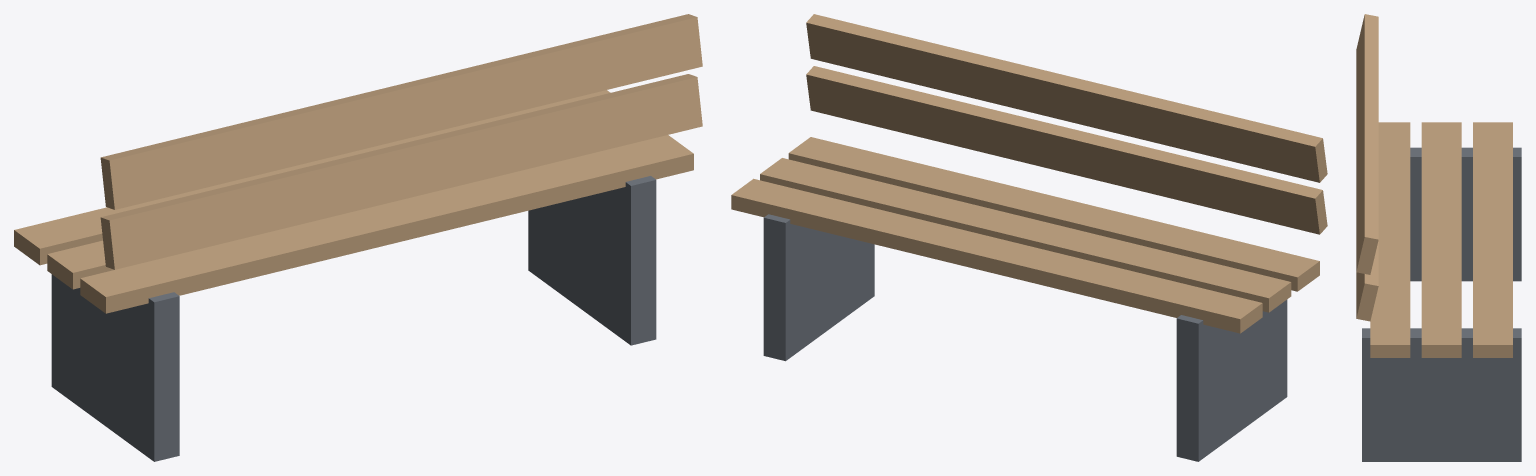
The model's file is Prop_Bench.fbx.
3 renders of one model, left to right at view 1: azimuth 30°, elevation 25°; view 2: azimuth 150°, elevation 25°; view 3: azimuth 270°, elevation 25°, orthographic. The views are drawn at different scales.
Parts seen in each view (by area): view 1: Cube.006, Cube.005, Cube.002, Cube, Cube.001, Cube.004, Cube.003; view 2: Cube.005, Cube.006, Cube.004, Cube.003, Cube.002, Cube, Cube.001; view 3: Cube.001, Cube.003, Cube.004, Cube.002, Cube.006, Cube, Cube.005.
Boxes of the visible parts, x1,y1,x2,y2 form: Cube.006: [100, 14, 702, 209]; Cube.005: [100, 74, 702, 269]; Cube.002: [80, 135, 693, 313]; Cube: [51, 274, 179, 461]; Cube.001: [528, 176, 656, 345]; Cube.004: [14, 90, 610, 265]; Cube.003: [47, 240, 114, 289]; Cube.005: [806, 66, 1327, 234]; Cube.006: [806, 14, 1327, 182]; Cube.004: [731, 178, 1262, 333]; Cube.003: [760, 158, 1291, 312]; Cube.002: [788, 137, 1319, 291]; Cube: [1176, 299, 1287, 461]; Cube.001: [763, 214, 874, 361]; Cube.001: [1362, 328, 1521, 461]; Cube.003: [1421, 122, 1461, 357]; Cube.004: [1473, 122, 1512, 357]; Cube.002: [1370, 122, 1410, 357]; Cube.006: [1356, 14, 1378, 274]; Cube: [1410, 147, 1521, 281]; Cube.005: [1356, 240, 1378, 321].
Size of the model in its own units: 1.85 by 0.9337 by 0.579.
